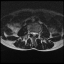CCS_normal: (33, 30, 34, 39)
LFS_normal: (36, 30, 38, 36)
LLS_normal: (35, 30, 36, 37)
RFS_normal: (29, 29, 31, 35)
RLS_normal: (31, 29, 33, 37)
